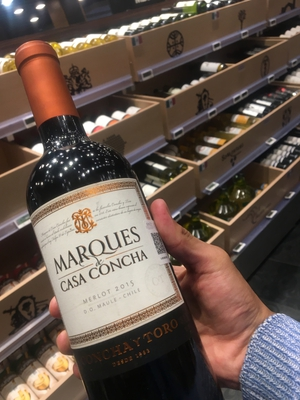marques de casa concha merlot: (17, 45, 202, 392)
